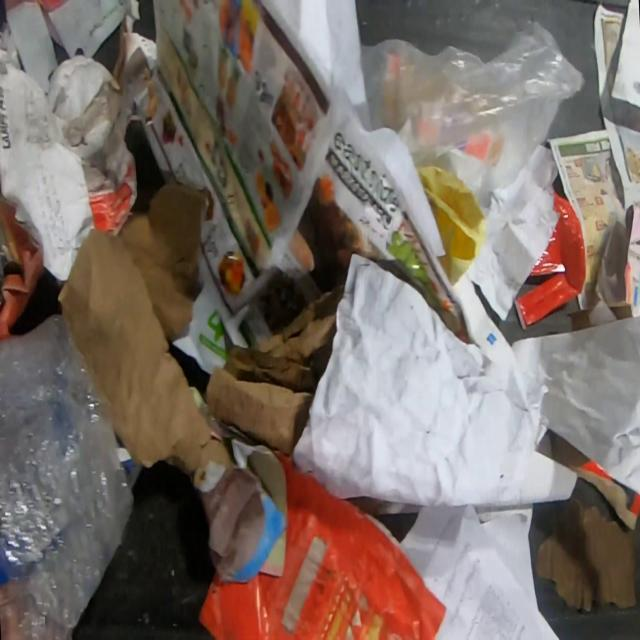cardboard: (204, 284, 346, 454), (552, 431, 640, 531)
rigid_plastic: (46, 54, 138, 236), (512, 188, 588, 330)
soft_plastic: (0, 311, 136, 640), (354, 22, 586, 209)
